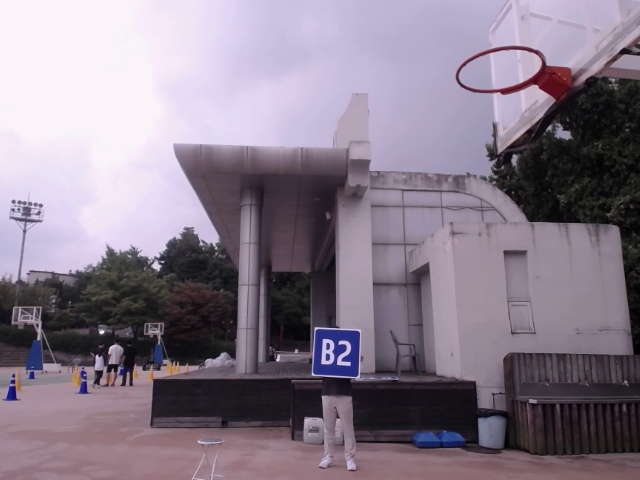delivery_b2: (315, 329, 359, 378)
